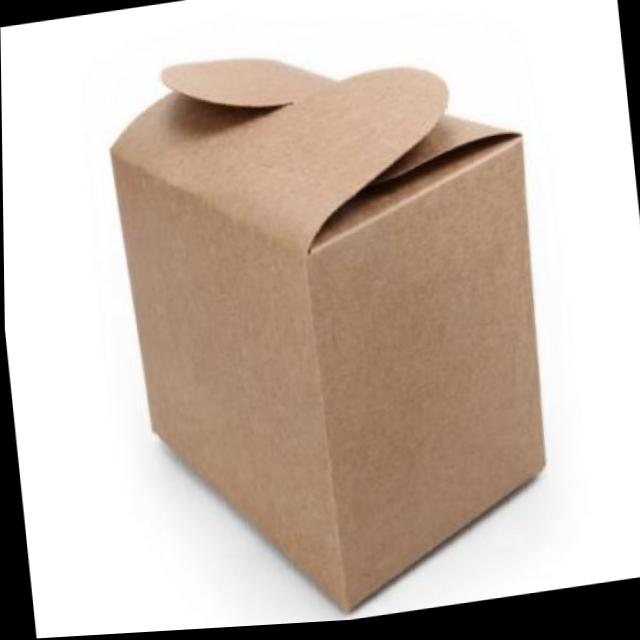box: (94, 0, 574, 636)
